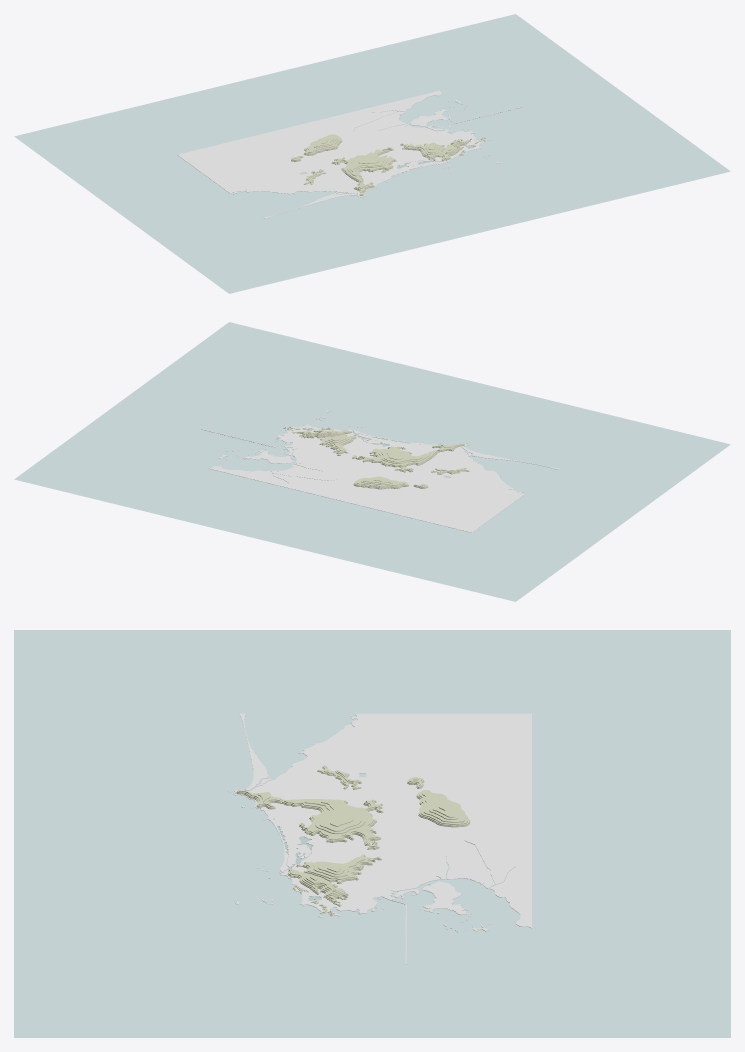
Rendered from cidade_atualizado.glb.
3 views of the same model, one above another, from view 1: azimuth 30°, elevation 25°; view 2: azimuth 150°, elevation 25°; view 3: azimuth 270°, elevation 25° (orthographic). The views are drawn at different scales.
Parts seen in each view (by area): view 1: base_cidade_atualizado; view 2: base_cidade_atualizado; view 3: base_cidade_atualizado.
Boxes of the visible parts, x1=… form: base_cidade_atualizado: x1=14, y1=14, x2=730, y2=293; base_cidade_atualizado: x1=14, y1=322, x2=730, y2=601; base_cidade_atualizado: x1=14, y1=630, x2=730, y2=1037.
Bounding box in the file's own units: 24.26 × 0.15 × 18.02.
